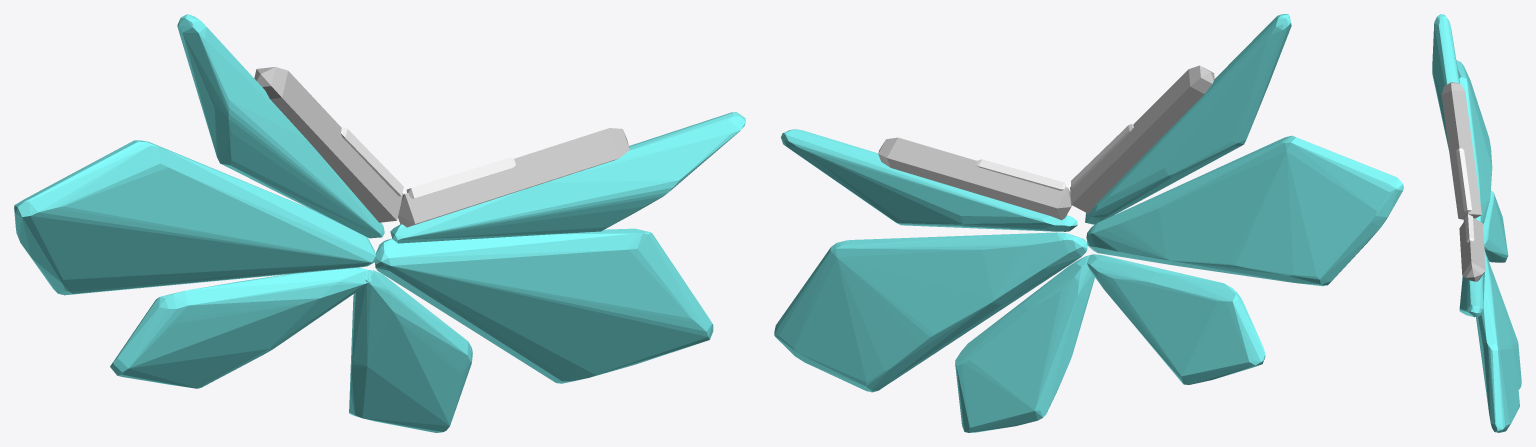
File: wingsFairy.fbx
The picture shows the model from 3 angles, left to right: view 1: azimuth 30°, elevation 25°; view 2: azimuth 150°, elevation 25°; view 3: azimuth 270°, elevation 25°; orthographic projection. The views are drawn at different scales.
Visible parts, largest first — view 1: brush_DiamondHull_g0_b0 2_2, brush_ShinyHull_g0_b0 5_5, brush_ShinyHull_g0_b0 6_9; view 2: brush_DiamondHull_g0_b0 2_2, brush_ShinyHull_g0_b0 5_5, brush_ShinyHull_g0_b0 6_9; view 3: brush_DiamondHull_g0_b0 2_2, brush_ShinyHull_g0_b0 5_5, brush_ShinyHull_g0_b0 6_9.
Part boxes in pixels (x1=…): brush_DiamondHull_g0_b0 2_2: x1=14, y1=14, x2=745, y2=432; brush_ShinyHull_g0_b0 5_5: x1=254, y1=67, x2=629, y2=227; brush_ShinyHull_g0_b0 6_9: x1=341, y1=127, x2=515, y2=198; brush_DiamondHull_g0_b0 2_2: x1=774, y1=14, x2=1403, y2=432; brush_ShinyHull_g0_b0 5_5: x1=878, y1=65, x2=1214, y2=220; brush_ShinyHull_g0_b0 6_9: x1=975, y1=124, x2=1133, y2=190; brush_DiamondHull_g0_b0 2_2: x1=1432, y1=14, x2=1521, y2=432; brush_ShinyHull_g0_b0 5_5: x1=1441, y1=82, x2=1485, y2=281; brush_ShinyHull_g0_b0 6_9: x1=1456, y1=148, x2=1474, y2=242.
Bounding box in the file's own units: 132 × 91.96 × 25.62.
